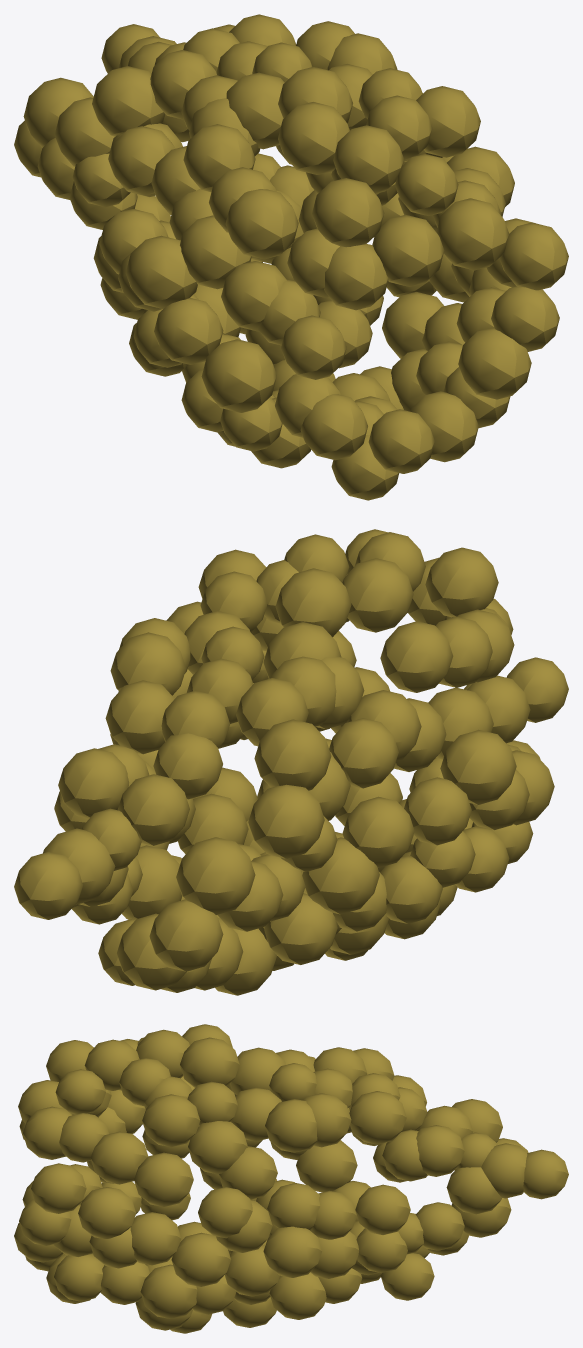
The model's file is berries.obj.
3 views of the same model, one above another, from view 1: azimuth 30°, elevation 25°; view 2: azimuth 150°, elevation 25°; view 3: azimuth 270°, elevation 25° (orthographic). The views are drawn at different scales.
Visible parts, largest first — view 1: berries; view 2: berries; view 3: berries.
Part boxes in pixels (left/top/right/bottom): berries: left=14, top=14, right=568, bottom=500; berries: left=14, top=529, right=568, bottom=995; berries: left=14, top=1024, right=568, bottom=1333.
Bounding box in the file's own units: 0.106 × 0.1037 × 0.1849.
